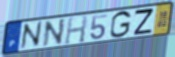5: (90, 14, 109, 41)
G: (109, 10, 133, 39)
H: (64, 14, 89, 45)
N: (42, 17, 67, 48), (19, 20, 43, 52)
Z: (133, 8, 155, 37)
